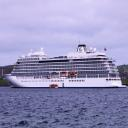cruises: (2, 45, 128, 91)
